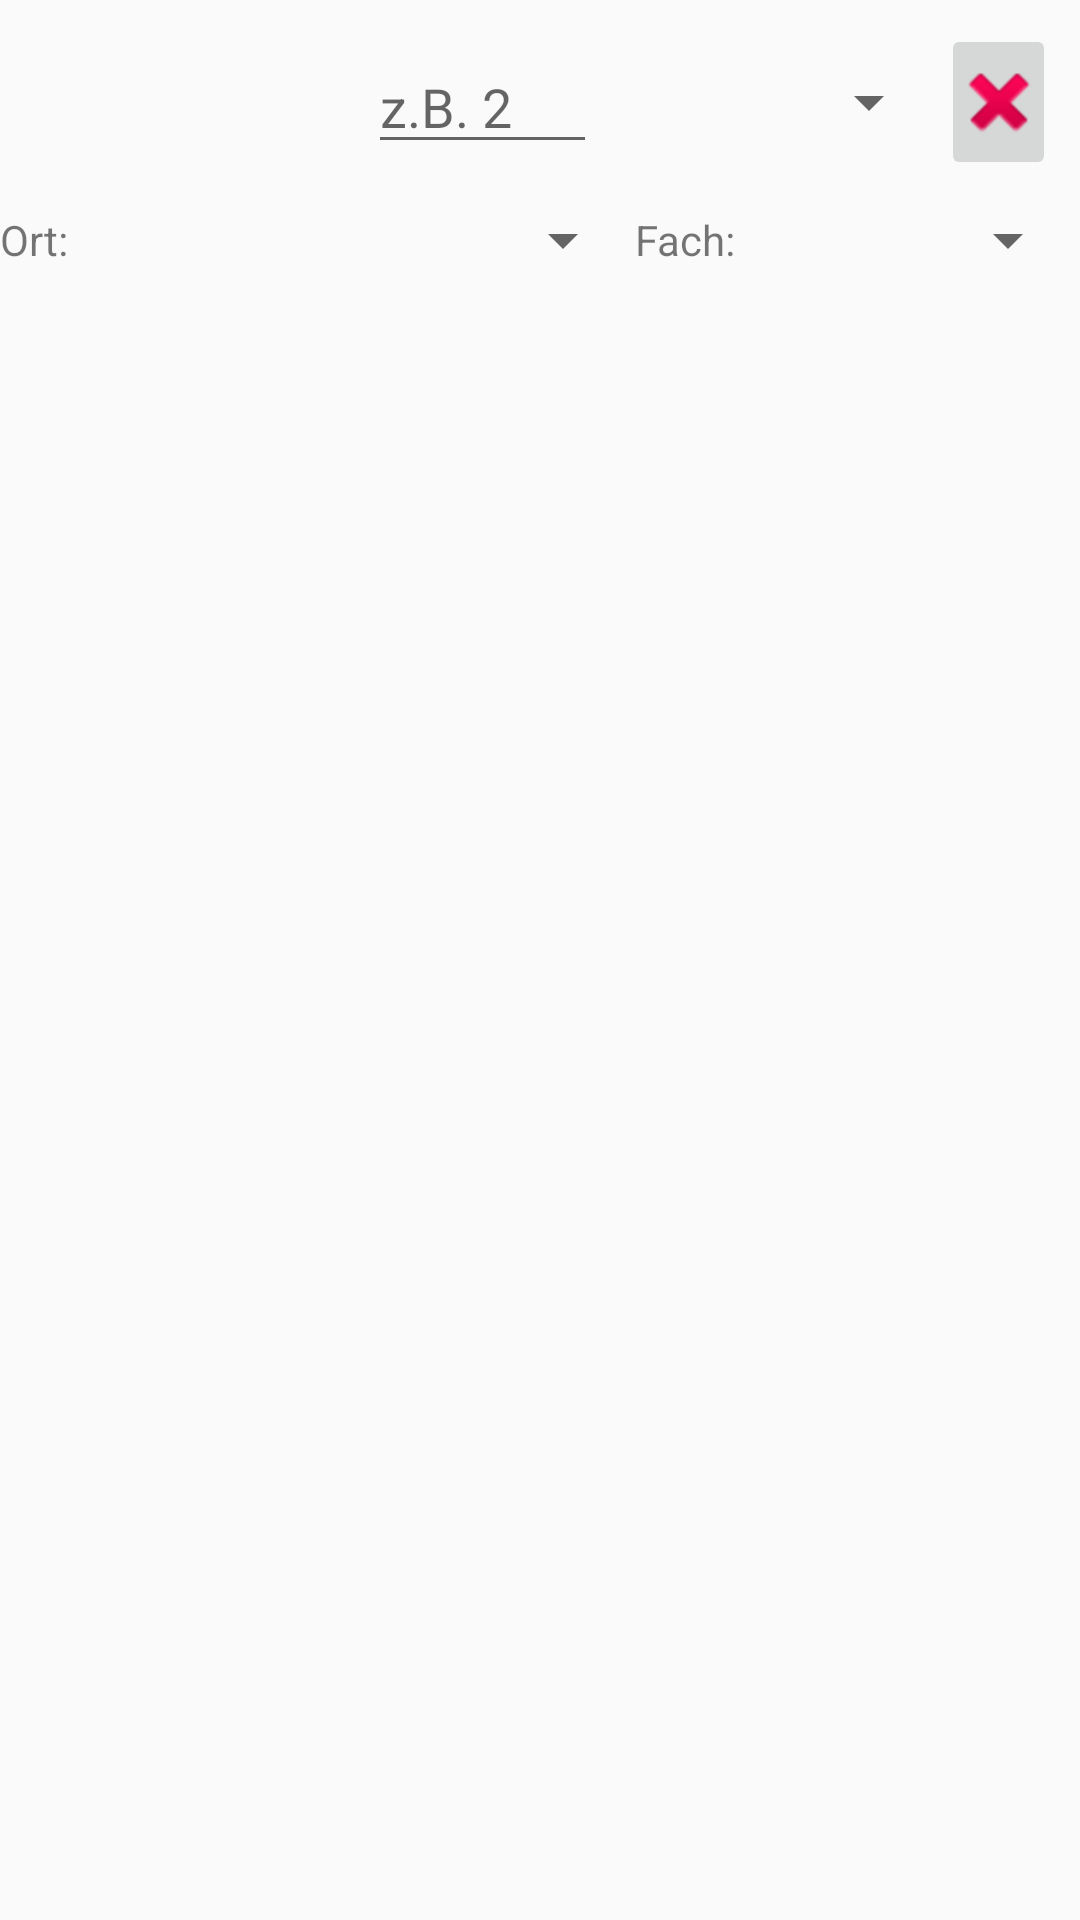

Where icons sit on this 1080×1920 app screen, as (x1, y1, x2, y2):
delete: (953, 42, 1044, 162)
